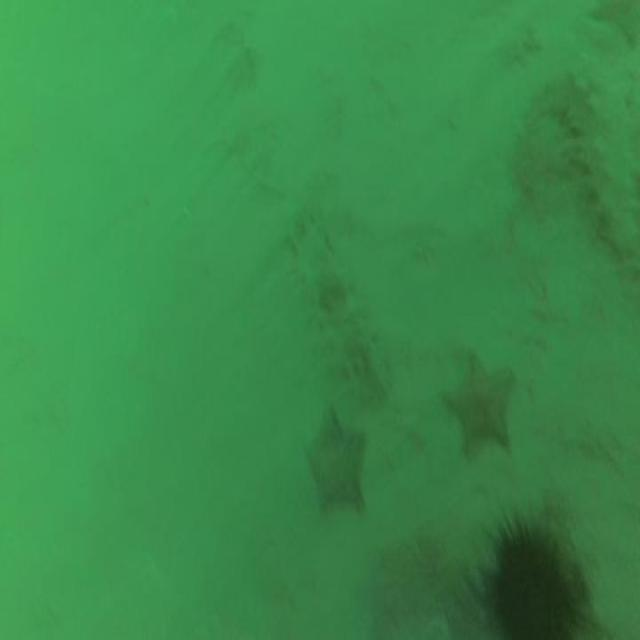echinus: (491, 531, 573, 640)
holothurian: (283, 204, 382, 385), (566, 77, 640, 266)
starfish: (443, 354, 513, 454), (303, 412, 370, 514)
